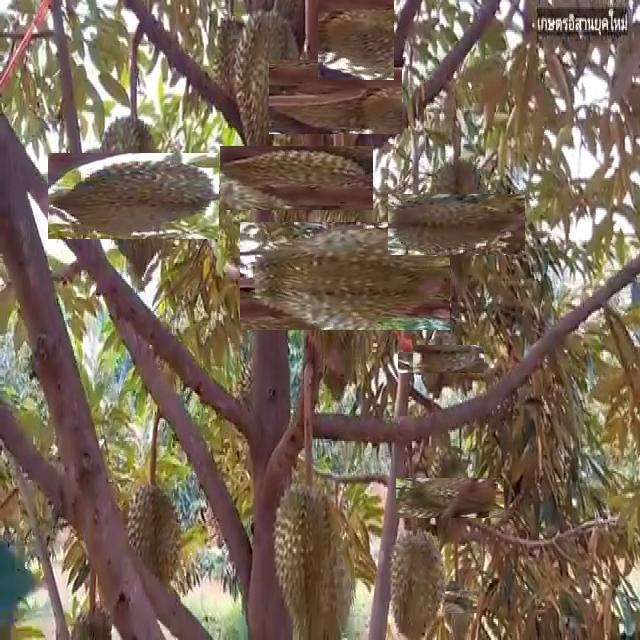durian: (266, 196, 425, 355), (68, 132, 198, 260), (272, 471, 362, 638), (228, 6, 306, 178), (241, 124, 351, 232), (283, 45, 387, 149), (407, 175, 507, 274), (116, 478, 186, 598), (315, 0, 395, 79), (387, 526, 445, 632), (413, 461, 488, 535), (208, 9, 249, 103), (423, 334, 473, 384), (410, 339, 455, 385), (432, 584, 470, 621), (450, 588, 474, 638)
